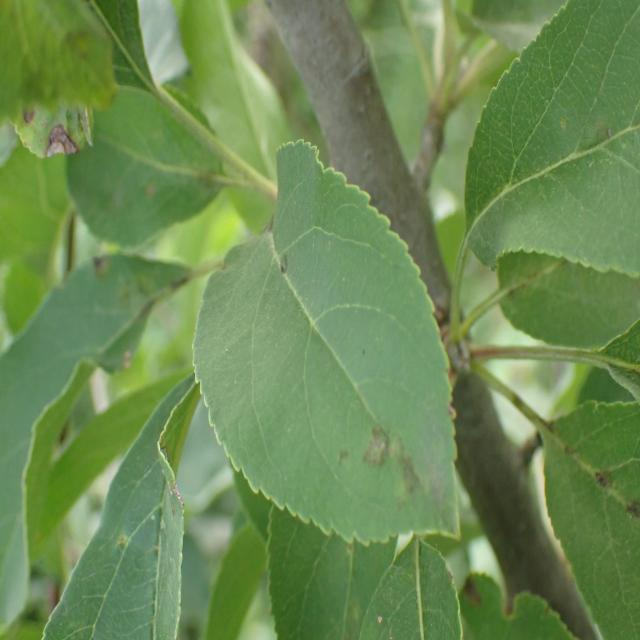scab: (239, 227, 461, 532), (520, 382, 640, 555)
